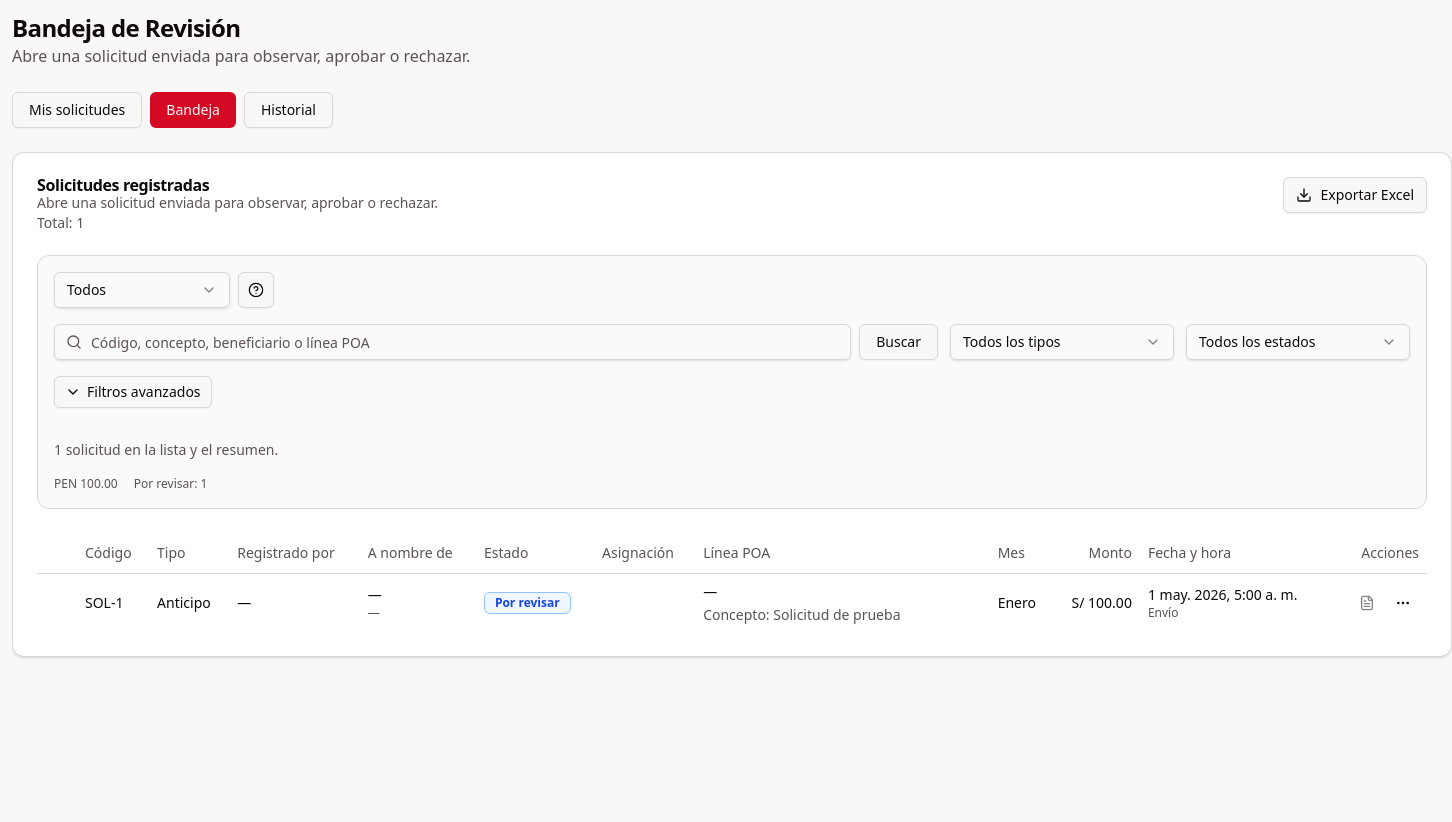
Test: RequestsPage › muestra los cuatro alcances compartidos en Review para Gestor
Click the dropdown named "Alcance de trabajo GIOF".
click(142, 290)  # box [54,272,230,308]
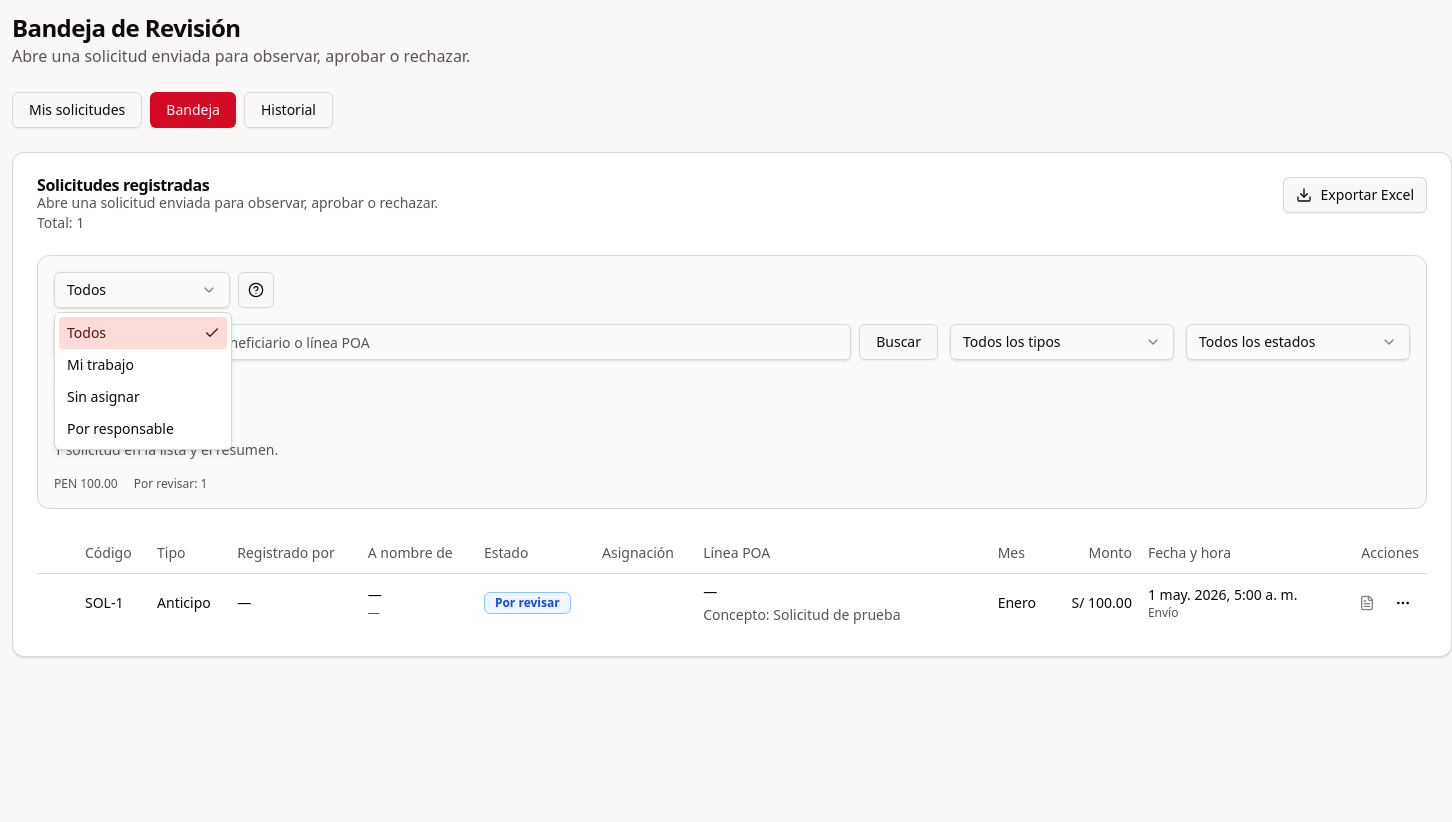
Now the options read "Todos", "Mi trabajo", "Sin asignar", "Por responsable", in this order, box [59,317,227,349]; [67,355,134,374]; [67,387,140,406]; [67,419,174,438]
